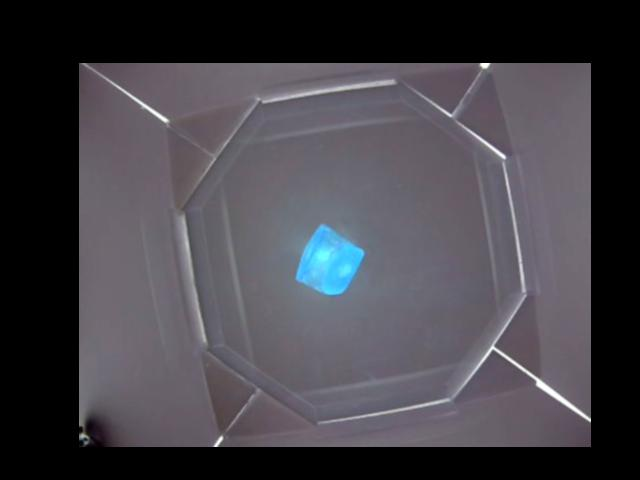Carrot: (297, 225, 363, 295)
